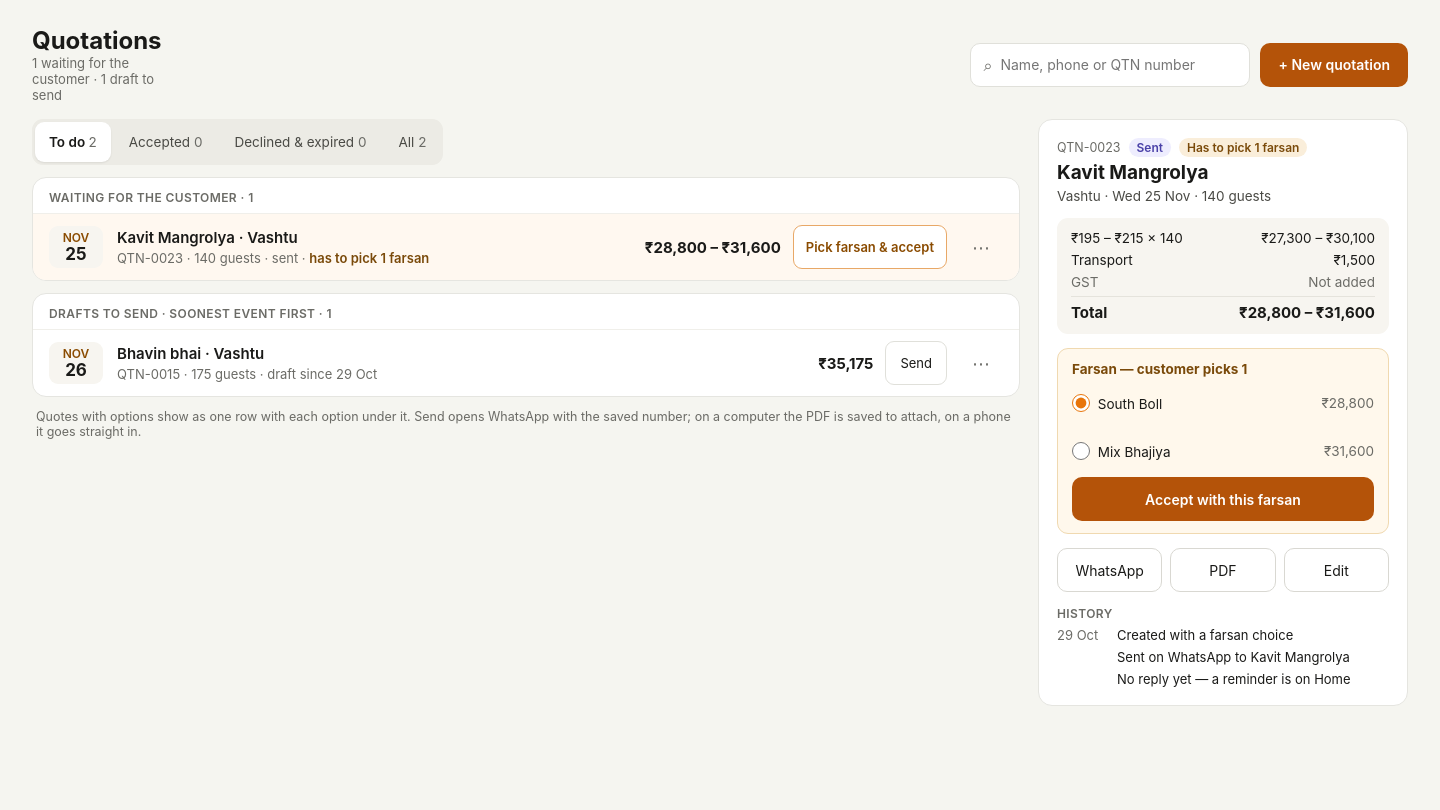
it: quotation list › searches and says when nothing matches
The width and height of the screenshot is (1440, 810).
Type "kavitt" into the search field named "Search quotations". click: {"x": 1119, "y": 64}
box: [1000, 44, 1238, 86]
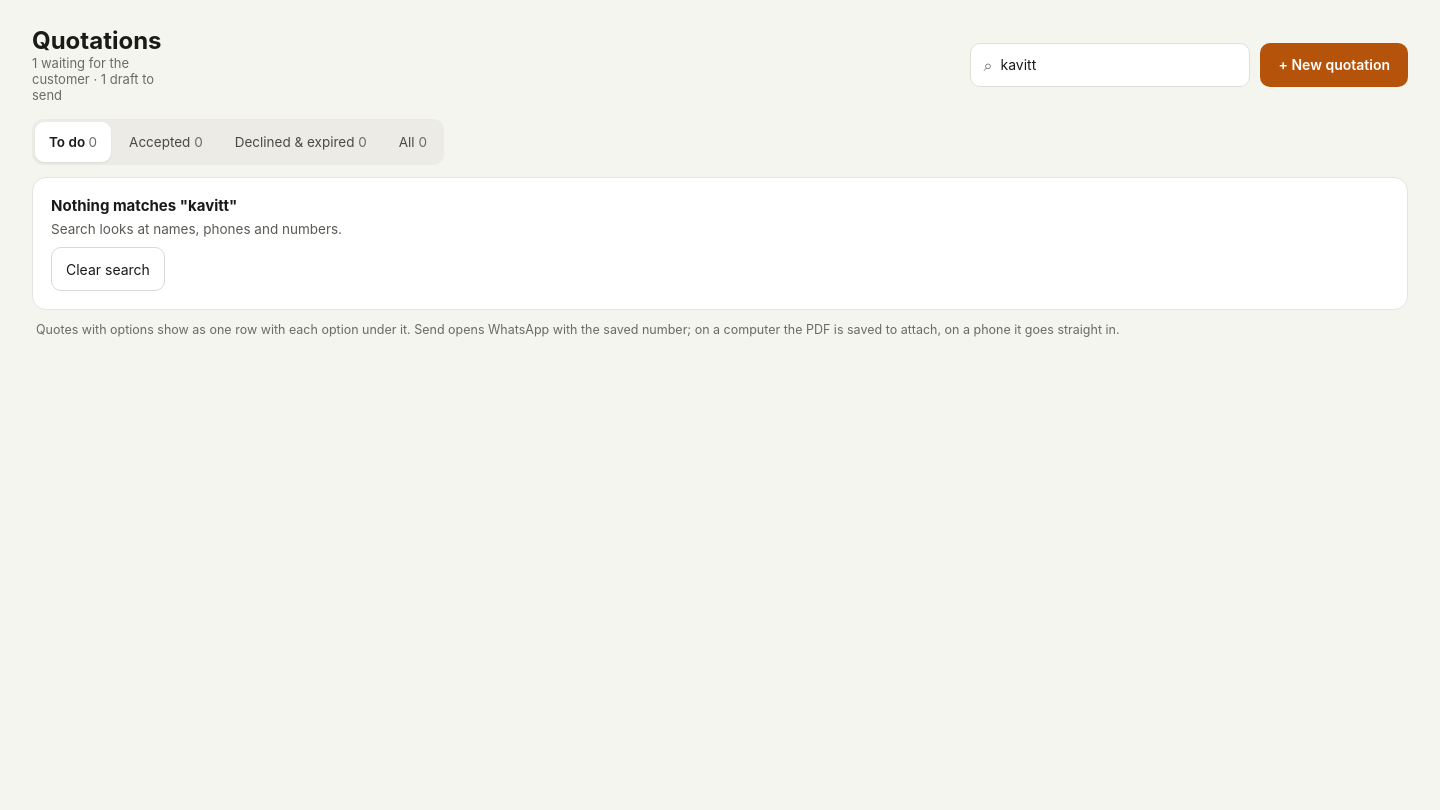
Expected: the text "Nothing matches \"kavitt\"" is shown, [51, 196, 237, 215]
Click the button "Clear search". click: {"x": 108, "y": 269}
box: [51, 247, 165, 291]
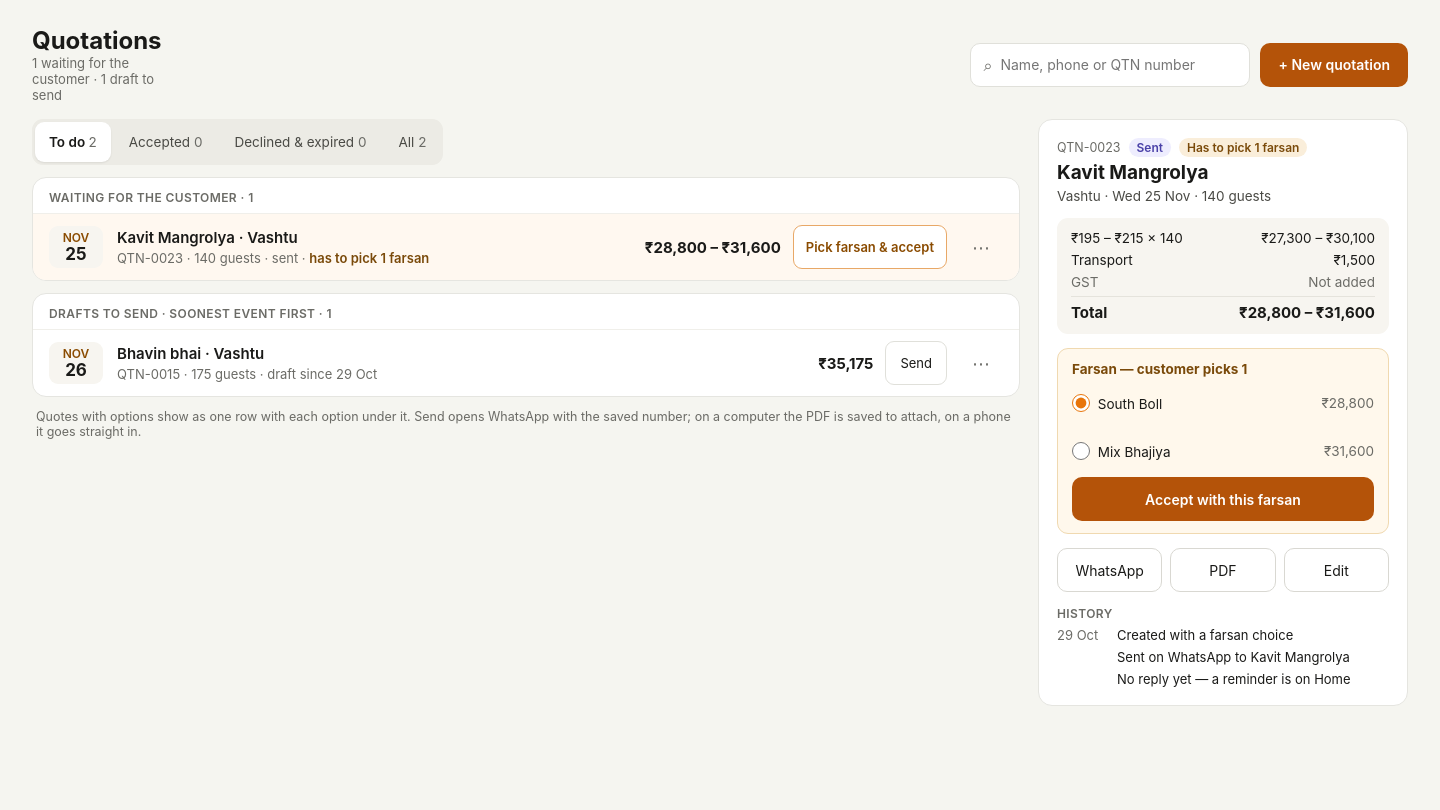
Expected: the text "Kavit Mangrolya · Vashtu" is shown, [117, 228, 298, 247]
